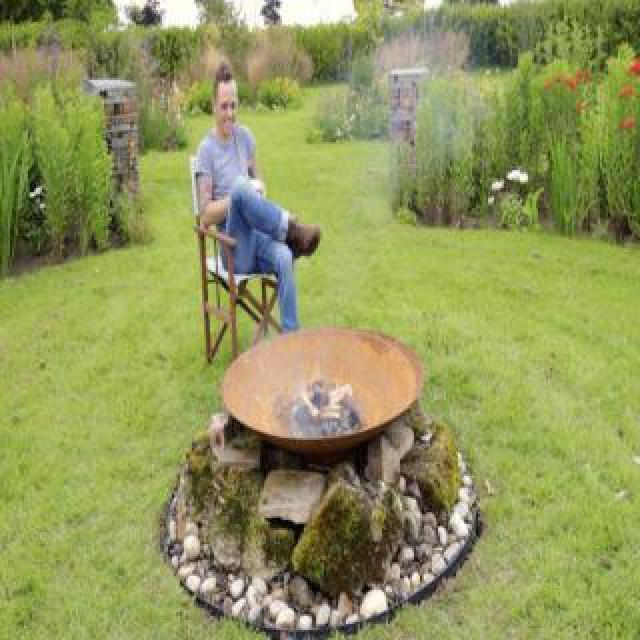Fire: (302, 366, 350, 432)
